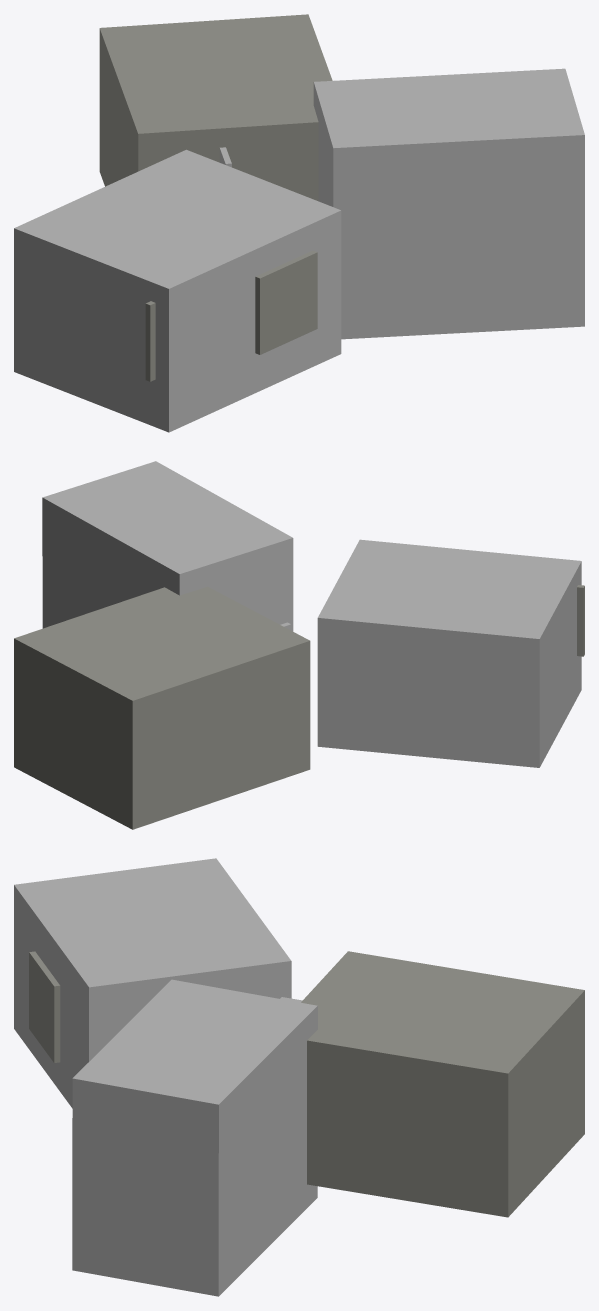
File: SM_Palots_v3_Volcados_LOD0.fbx
3 renders of one model, top to bottom at view 1: azimuth 30°, elevation 25°; view 2: azimuth 150°, elevation 25°; view 3: azimuth 270°, elevation 25°, orthographic. The views are drawn at different scales.
Visible parts, largest first — view 1: SM_viveres_nules_v23_LOD0; view 2: SM_viveres_nules_v23_LOD0; view 3: SM_viveres_nules_v23_LOD0.
Part boxes in pixels (box(x1,y1,x2,y2)): SM_viveres_nules_v23_LOD0: box(14, 14, 584, 432); SM_viveres_nules_v23_LOD0: box(14, 461, 584, 829); SM_viveres_nules_v23_LOD0: box(14, 858, 584, 1296).
Bounding box in the file's own units: 3.02 × 1 × 2.7.
